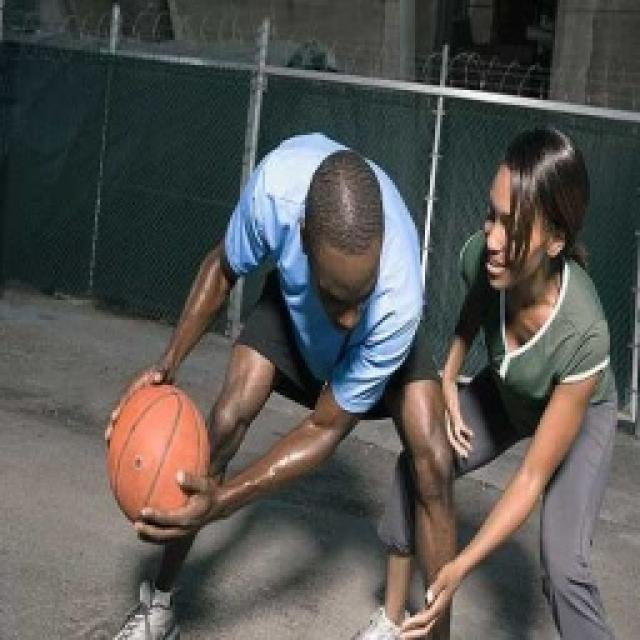basketball: (106, 382, 212, 538)
